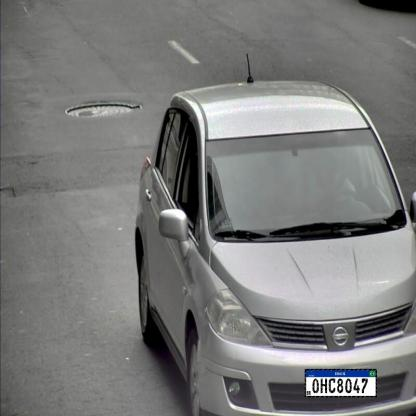PlacaM: (305, 369, 377, 397)
